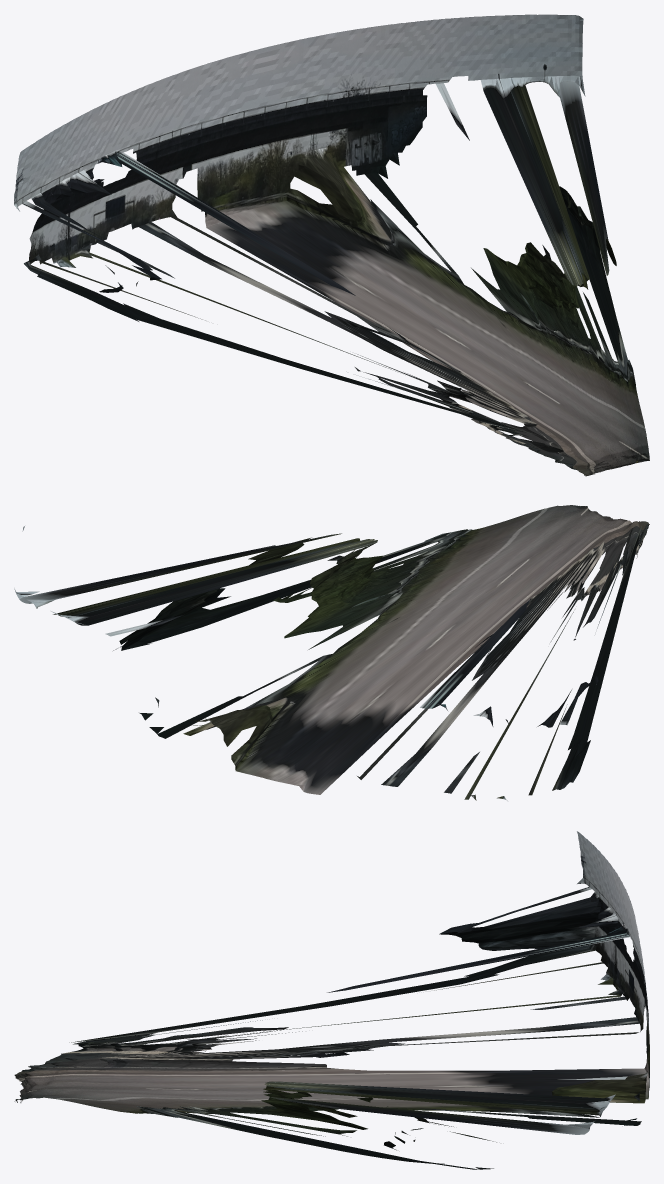
The picture shows the model from 3 angles, top to bottom: view 1: azimuth 30°, elevation 25°; view 2: azimuth 150°, elevation 25°; view 3: azimuth 270°, elevation 25°; orthographic projection. The views are drawn at different scales.
Parts seen in each view (by area): view 1: defaultobject; view 2: defaultobject; view 3: defaultobject.
Boxes of the visible parts, x1,y1,x2,y2 form: defaultobject: (14, 14, 649, 476); defaultobject: (14, 505, 649, 800); defaultobject: (14, 831, 649, 1169).
Bounding box in the file's own units: 40.94 × 11.71 × 44.72.
Materials: 1 (1 with a texture image).
